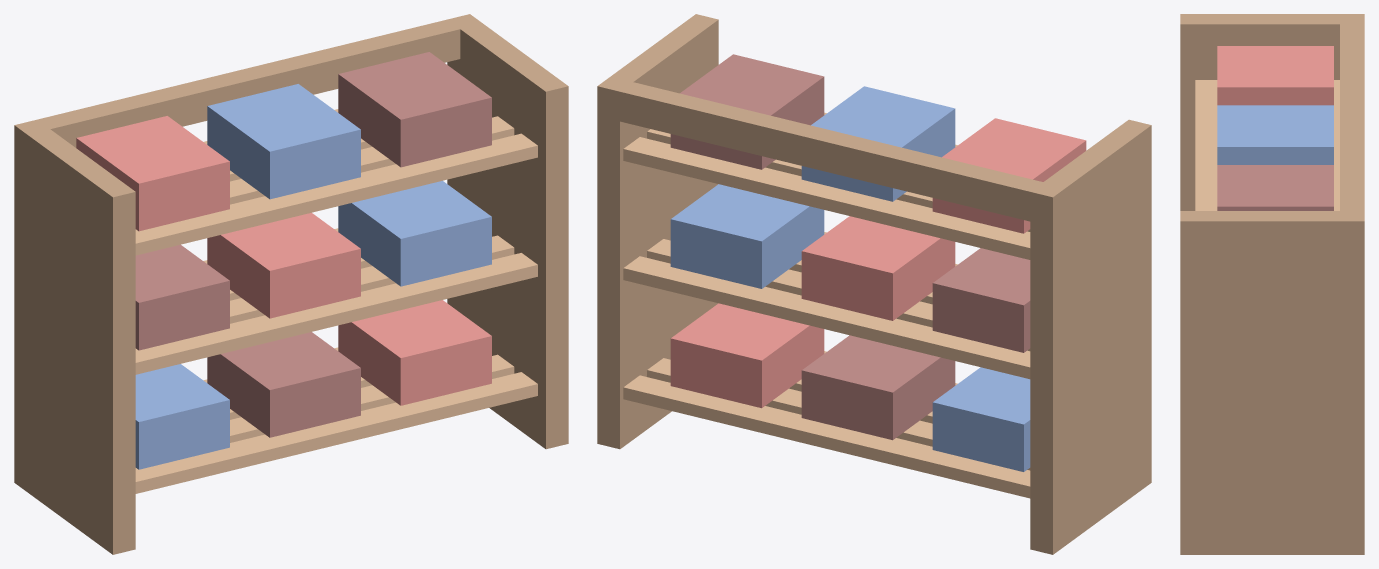
The model's file is shoeRack.glb.
The picture shows the model from 3 angles, left to right: view 1: azimuth 30°, elevation 25°; view 2: azimuth 150°, elevation 25°; view 3: azimuth 270°, elevation 25°; orthographic projection. The views are drawn at different scales.
Parts seen in each view (by area): view 1: shoeRack; view 2: shoeRack; view 3: shoeRack.
Part boxes in pixels (bbox=[...]): shoeRack: bbox=[14, 14, 568, 554]; shoeRack: bbox=[597, 14, 1151, 554]; shoeRack: bbox=[1180, 14, 1364, 554].
Size of the model in its own units: 0.4 by 0.3 by 0.15.
